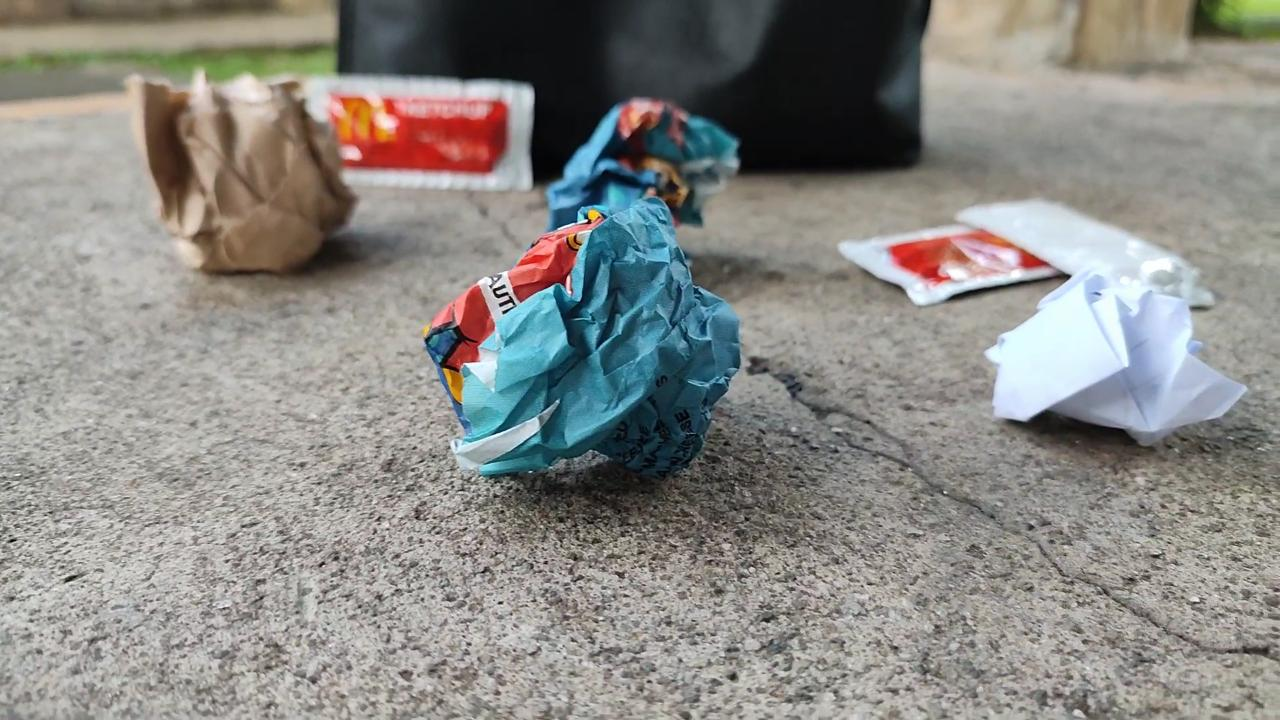Paper: (394, 197, 766, 498), (973, 265, 1257, 470), (121, 77, 364, 276), (534, 77, 764, 267)
